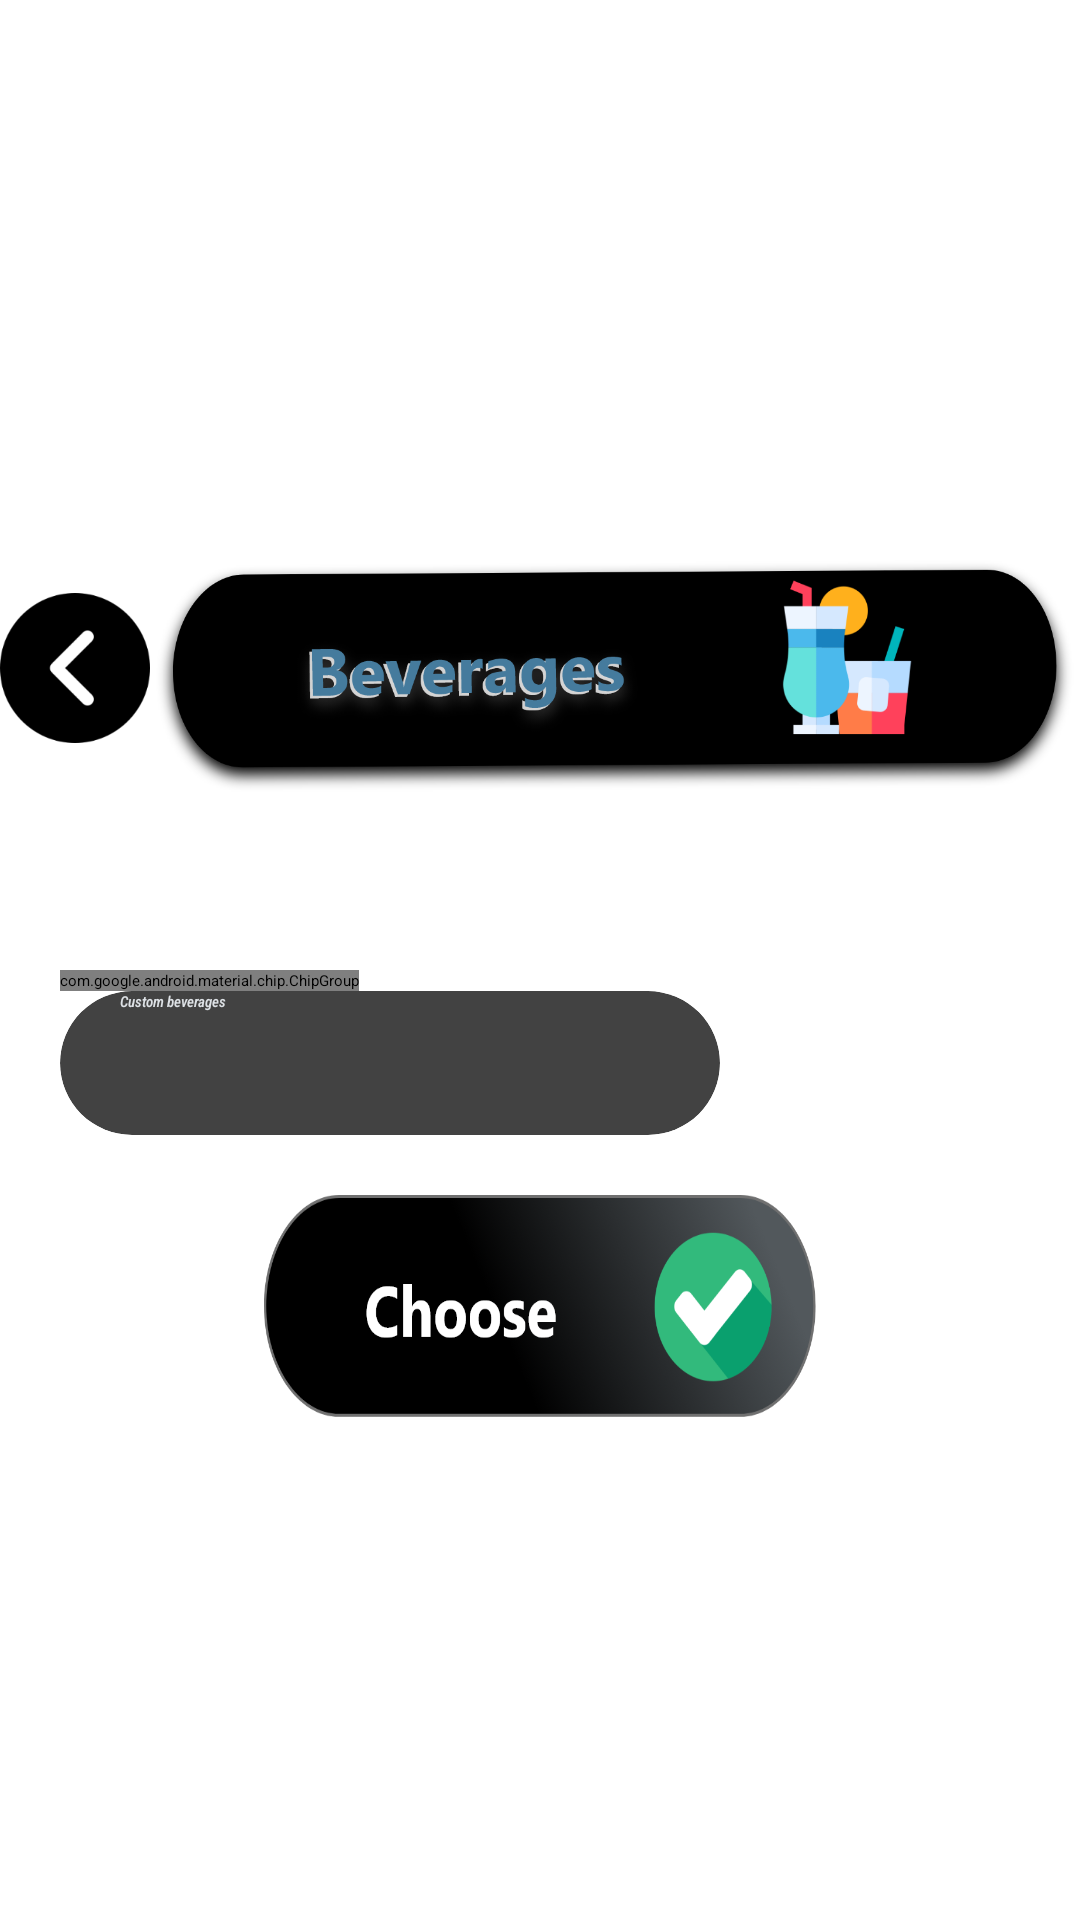

Icon bounding boxes for this 1080 x 1920 phone screenshot, format (x1, y1, x2, y2):
previous: (0, 593, 150, 743)
